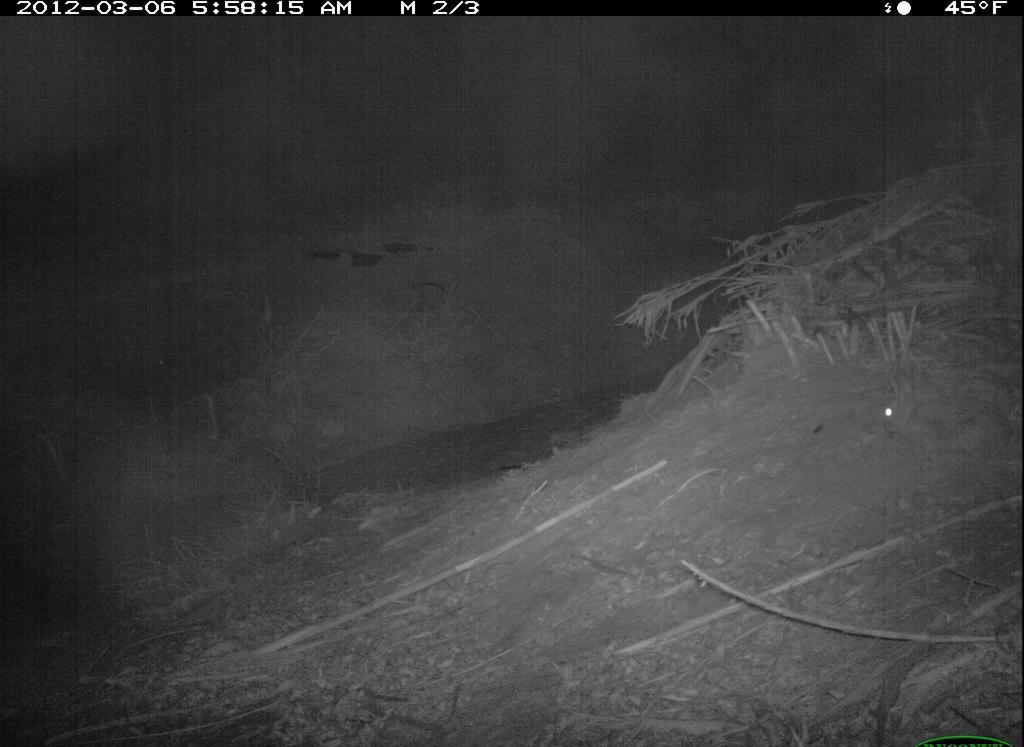rabbit: (871, 358, 1018, 473)
